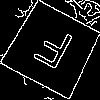F: (26, 24, 77, 79)
